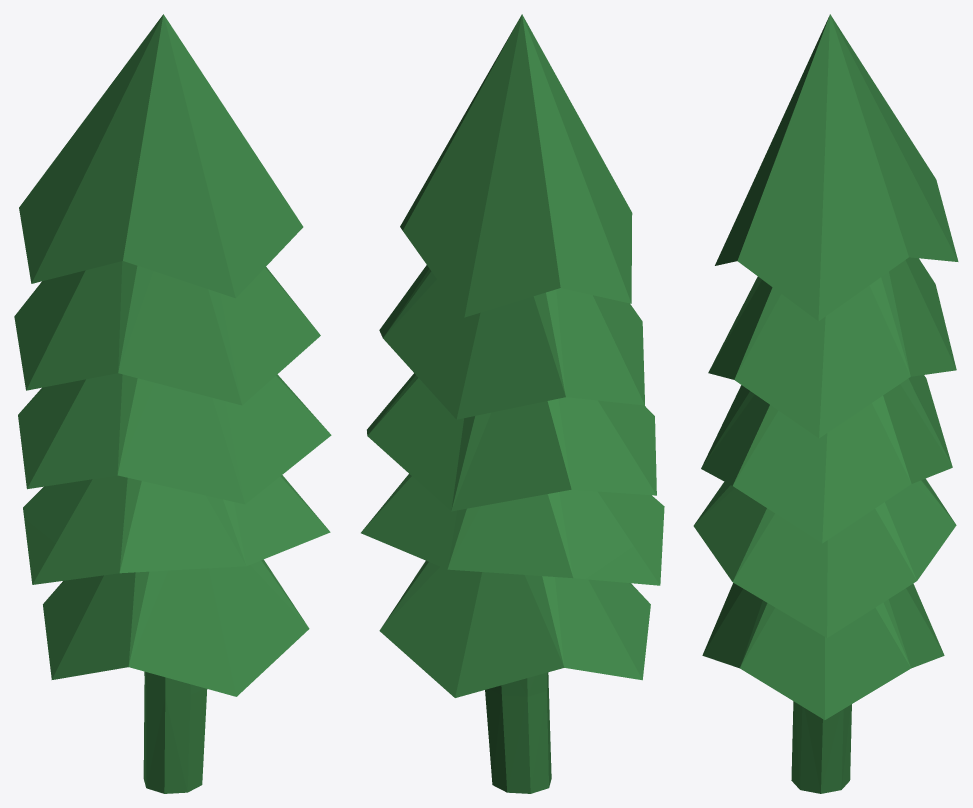
Rendered from TreePackage.fbx_Tree_019.fbx.
3 views of the same model, side by side, from view 1: azimuth 30°, elevation 25°; view 2: azimuth 150°, elevation 25°; view 3: azimuth 270°, elevation 25° (orthographic).
Parts seen in each view (by area): view 1: Circle.004; view 2: Circle.004; view 3: Circle.004.
Boxes of the visible parts, left/top/right/bottom form: Circle.004: left=14, top=14, right=331, bottom=793; Circle.004: left=361, top=14, right=664, bottom=793; Circle.004: left=693, top=14, right=958, bottom=793.
Bounding box in the file's own units: 187 × 468 × 147.
